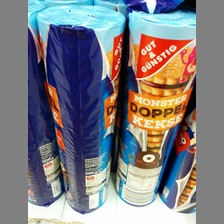chocolate: (37, 4, 125, 213), (116, 11, 196, 208)
